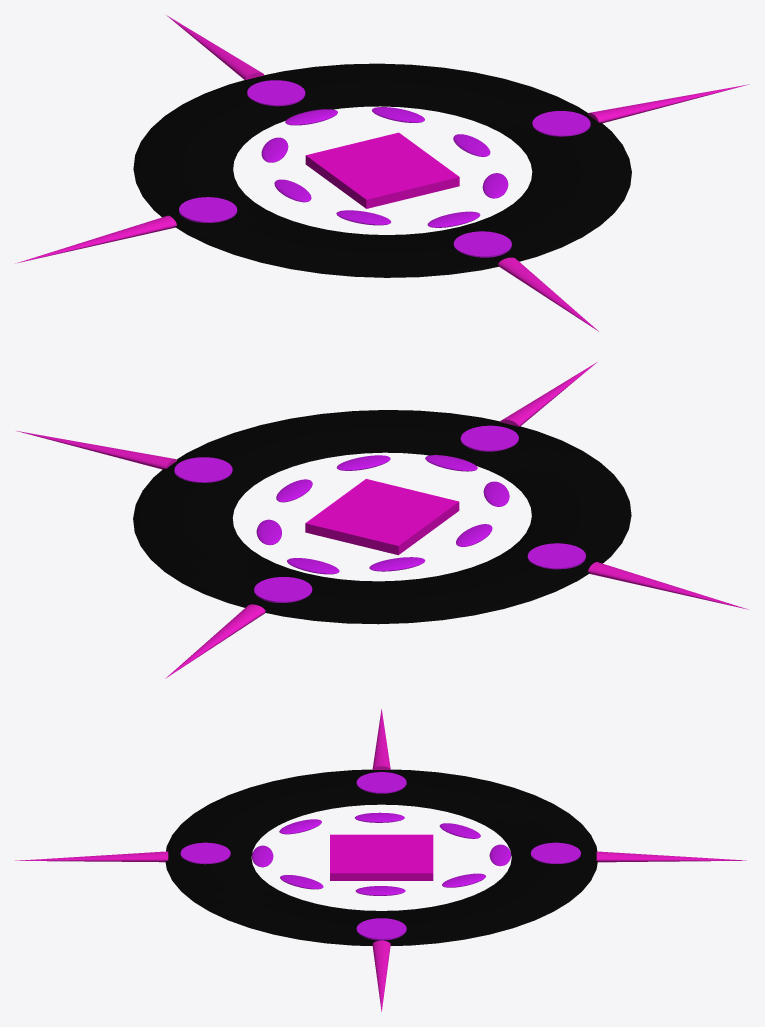
The model's file is animation.glb.
The picture shows the model from 3 angles, top to bottom: view 1: azimuth 30°, elevation 25°; view 2: azimuth 150°, elevation 25°; view 3: azimuth 270°, elevation 25°; orthographic projection. The views are drawn at different scales.
Visible parts, largest first — view 1: Torus, Cube, Cylinder.003, Cone, Cylinder.002, Cylinder, Cylinder.001, Cone.001, Cone.003, Cone.002, Sphere.007, Sphere (+5 smaller); view 2: Torus, Cube, Cone, Cylinder, Cylinder.002, Cylinder.003, Cylinder.001, Cone.001, Cone.002, Cone.003, Sphere.006, Sphere.004 (+5 smaller); view 3: Torus, Cube, Cone.002, Cone.003, Cylinder.001, Cylinder, Cylinder.003, Cylinder.002, Cone.001, Cone.
Part boxes in pixels (x1=…): Torus: x1=133, y1=63, x2=631, y2=277; Cube: x1=305, y1=132, x2=459, y2=208; Cylinder.003: x1=453, y1=231, x2=511, y2=257; Cone: x1=15, y1=215, x2=176, y2=263; Cylinder.002: x1=247, y1=80, x2=305, y2=106; Cylinder: x1=179, y1=197, x2=237, y2=222; Cylinder.001: x1=532, y1=111, x2=590, y2=136; Cone.001: x1=588, y1=84, x2=749, y2=123; Cone.003: x1=498, y1=257, x2=598, y2=331; Cone.002: x1=166, y1=15, x2=264, y2=79; Sphere.007: x1=336, y1=210, x2=390, y2=225; Sphere: x1=427, y1=211, x2=480, y2=227; Torus: x1=133, y1=410, x2=631, y2=624; Cube: x1=305, y1=479, x2=459, y2=555; Cone: x1=588, y1=562, x2=748, y2=609; Cylinder: x1=527, y1=543, x2=585, y2=569; Cylinder.002: x1=254, y1=577, x2=312, y2=602; Cylinder.003: x1=460, y1=425, x2=518, y2=451; Cylinder.001: x1=174, y1=457, x2=232, y2=482; Cone.001: x1=17, y1=431, x2=176, y2=469; Cone.002: x1=165, y1=604, x2=265, y2=678; Cone.003: x1=500, y1=362, x2=597, y2=426; Sphere.006: x1=369, y1=557, x2=425, y2=571; Sphere.004: x1=336, y1=455, x2=390, y2=470; Torus: x1=165, y1=769, x2=597, y2=945; Cube: x1=330, y1=834, x2=433, y2=880; Cone.002: x1=596, y1=851, x2=746, y2=862; Cone.003: x1=15, y1=851, x2=168, y2=862; Cylinder.001: x1=356, y1=918, x2=406, y2=940; Cylinder: x1=356, y1=772, x2=406, y2=793; Cylinder.003: x1=180, y1=842, x2=230, y2=864; Cylinder.002: x1=530, y1=842, x2=580, y2=863; Cone.001: x1=372, y1=940, x2=390, y2=1011; Cone: x1=372, y1=709, x2=390, y2=769.
Bounding box in the file's own units: 28.74 × 0.4344 × 29.35.
